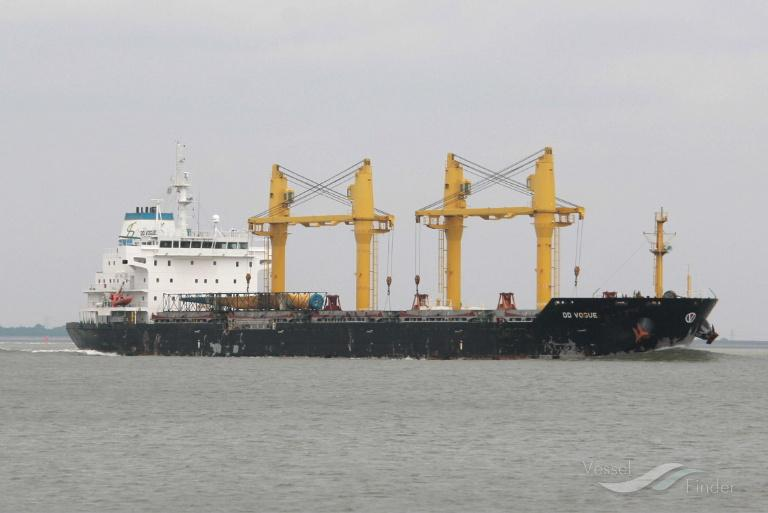OCR: (560, 308, 600, 323)
